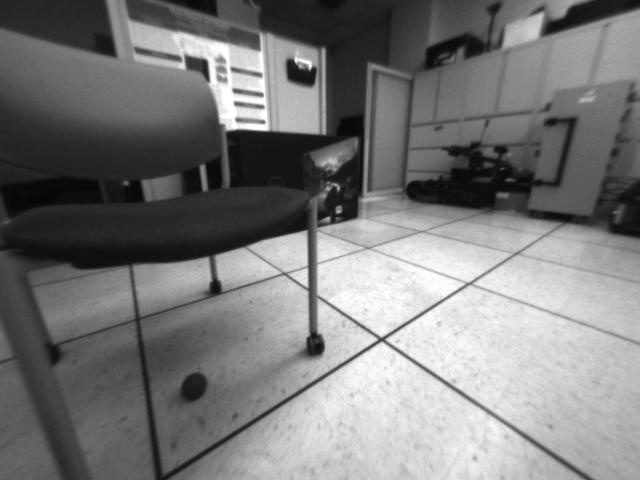dogtoy: (175, 364, 211, 404)
